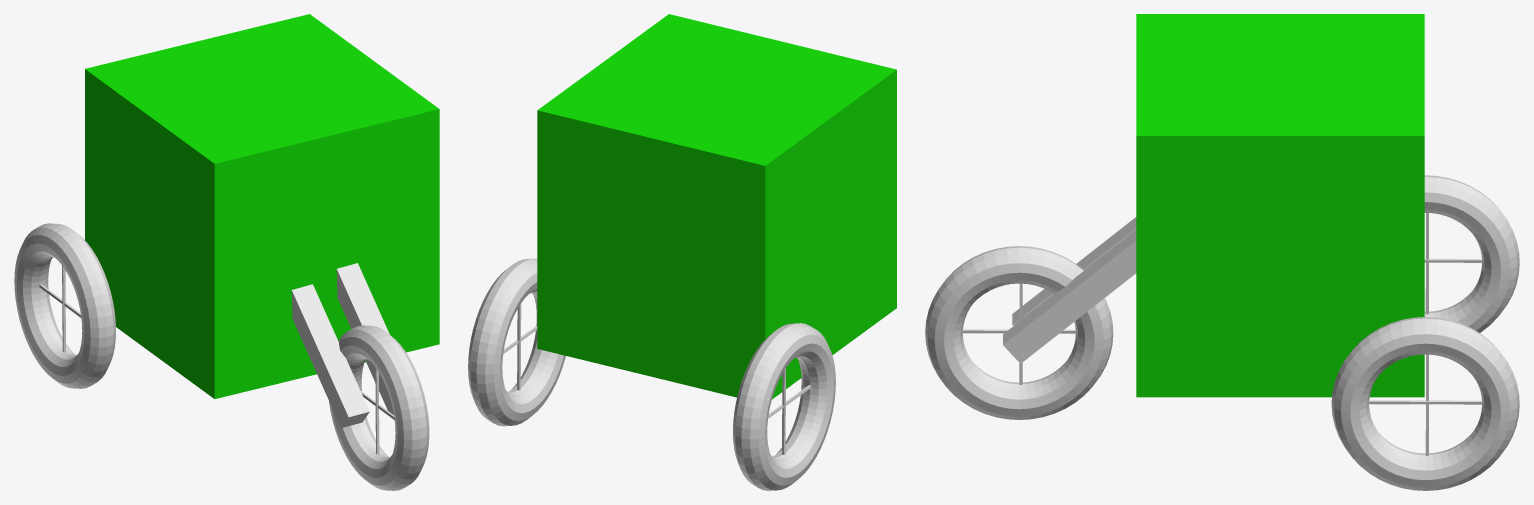
The model's file is Enemy FBX.fbx.
The picture shows the model from 3 angles, left to right: view 1: azimuth 30°, elevation 25°; view 2: azimuth 150°, elevation 25°; view 3: azimuth 270°, elevation 25°; orthographic projection. The views are drawn at different scales.
Parts seen in each view (by area): view 1: Cube, Rear Right Wheel, Front Middle Wheel, Cube.002, Cube.001; view 2: Cube, Rear Right Wheel, Rear Left Wheel; view 3: Cube, Rear Left Wheel, Front Middle Wheel, Rear Right Wheel, Cube.001, Cube.002.
Part boxes in pixels (box(x1,y1,x2,y2)): Cube: box(85, 14, 439, 398); Rear Right Wheel: box(14, 223, 115, 388); Front Middle Wheel: box(329, 325, 429, 490); Cube.002: box(291, 284, 369, 427); Cube.001: box(336, 263, 393, 414); Cube: box(537, 14, 896, 399); Rear Right Wheel: box(733, 323, 835, 490); Rear Left Wheel: box(468, 258, 565, 426); Cube: box(1136, 14, 1424, 397); Rear Left Wheel: box(1331, 317, 1519, 490); Front Middle Wheel: box(925, 246, 1113, 419); Rear Right Wheel: box(1424, 175, 1519, 332); Cube.001: box(1003, 230, 1136, 363); Cube.002: box(1012, 217, 1136, 325).
Bounding box in the file's own units: 258 × 263 × 412.
